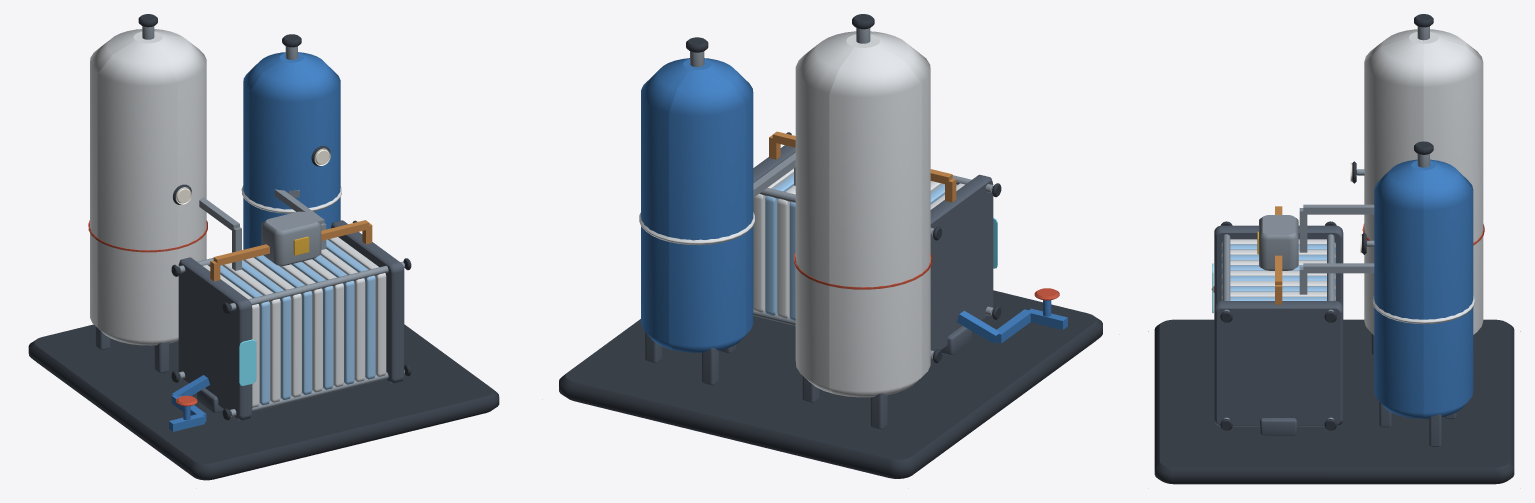
The model's file is electrolyseur.glb.
3 views of the same model, side by side, from view 1: azimuth 30°, elevation 25°; view 2: azimuth 150°, elevation 25°; view 3: azimuth 270°, elevation 25° (orthographic). The views are drawn at different scales.
Parts seen in each view (by area): view 1: pieces_av_blanc.004, pieces_av_fonce.006, pieces_av_bleu.004, pieces_av_sombre.006, pieces_av_bleu_clair.002, pieces_av_gris.006, pieces_av_cuivre.004, voyant_electrolyse_av_ecran.002, pieces_av_rouge.002; view 2: pieces_av_blanc.004, pieces_av_fonce.006, pieces_av_bleu.004, pieces_av_sombre.006, pieces_av_bleu_clair.002, pieces_av_gris.006, pieces_av_cuivre.004, pieces_av_rouge.002; view 3: pieces_av_fonce.006, pieces_av_bleu.004, pieces_av_blanc.004, pieces_av_sombre.006, pieces_av_gris.006, pieces_av_bleu_clair.002, pieces_av_cuivre.004.
Part boxes in pixels (x1=…): pieces_av_blanc.004: x1=90, y1=29, x2=386, y2=407; pieces_av_fonce.006: x1=28, y1=14, x2=499, y2=480; pieces_av_bleu.004: x1=169, y1=52, x2=340, y2=431; pieces_av_sombre.006: x1=95, y1=220, x2=404, y2=420; pieces_av_bleu_clair.002: x1=209, y1=239, x2=375, y2=405; pieces_av_gris.006: x1=142, y1=26, x2=404, y2=416; pieces_av_cuivre.004: x1=210, y1=220, x2=372, y2=281; voyant_electrolyse_av_ecran.002: x1=239, y1=339, x2=256, y2=385; pieces_av_rouge.002: x1=88, y1=220, x2=207, y2=406; pieces_av_blanc.004: x1=639, y1=31, x2=964, y2=397; pieces_av_fonce.006: x1=559, y1=14, x2=1102, y2=478; pieces_av_bleu.004: x1=641, y1=58, x2=1067, y2=352; pieces_av_sombre.006: x1=645, y1=145, x2=993, y2=429; pieces_av_bleu_clair.002: x1=765, y1=174, x2=957, y2=321; pieces_av_gris.006: x1=690, y1=28, x2=993, y2=358; pieces_av_cuivre.004: x1=769, y1=131, x2=956, y2=202; pieces_av_rouge.002: x1=794, y1=252, x2=1059, y2=300; pieces_av_fonce.006: x1=1154, y1=14, x2=1514, y2=484; pieces_av_bleu.004: x1=1374, y1=159, x2=1473, y2=418; pieces_av_blanc.004: x1=1221, y1=29, x2=1483, y2=334; pieces_av_sombre.006: x1=1214, y1=225, x2=1456, y2=446; pieces_av_gris.006: x1=1223, y1=26, x2=1429, y2=419; pieces_av_bleu_clair.002: x1=1221, y1=244, x2=1335, y2=300; pieces_av_cuivre.004: x1=1275, y1=206, x2=1282, y2=304.
Size of the model in its own units: 1.5 by 1.59 by 1.5.
